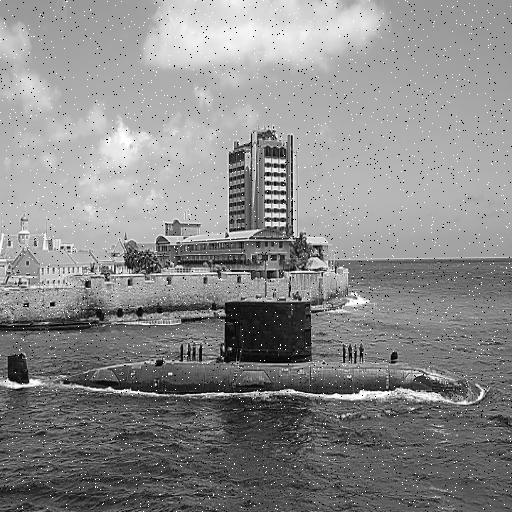submarine: (7, 289, 484, 402)
